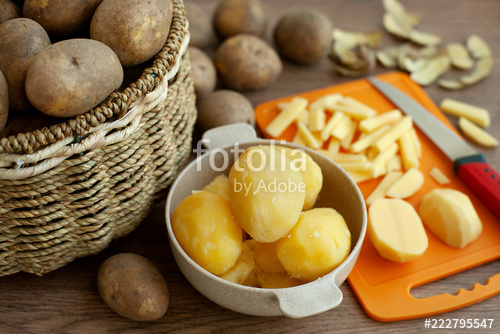boiled potatoes: (184, 157, 346, 296), (360, 183, 483, 264)
